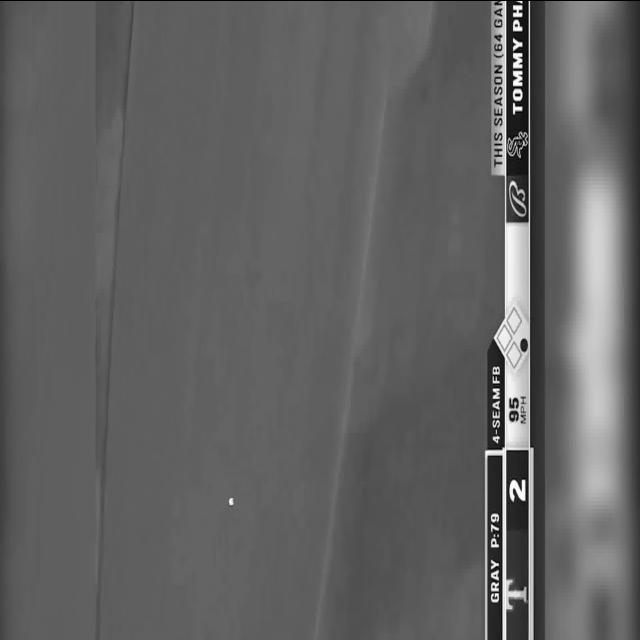baseball: (228, 496, 234, 506)
